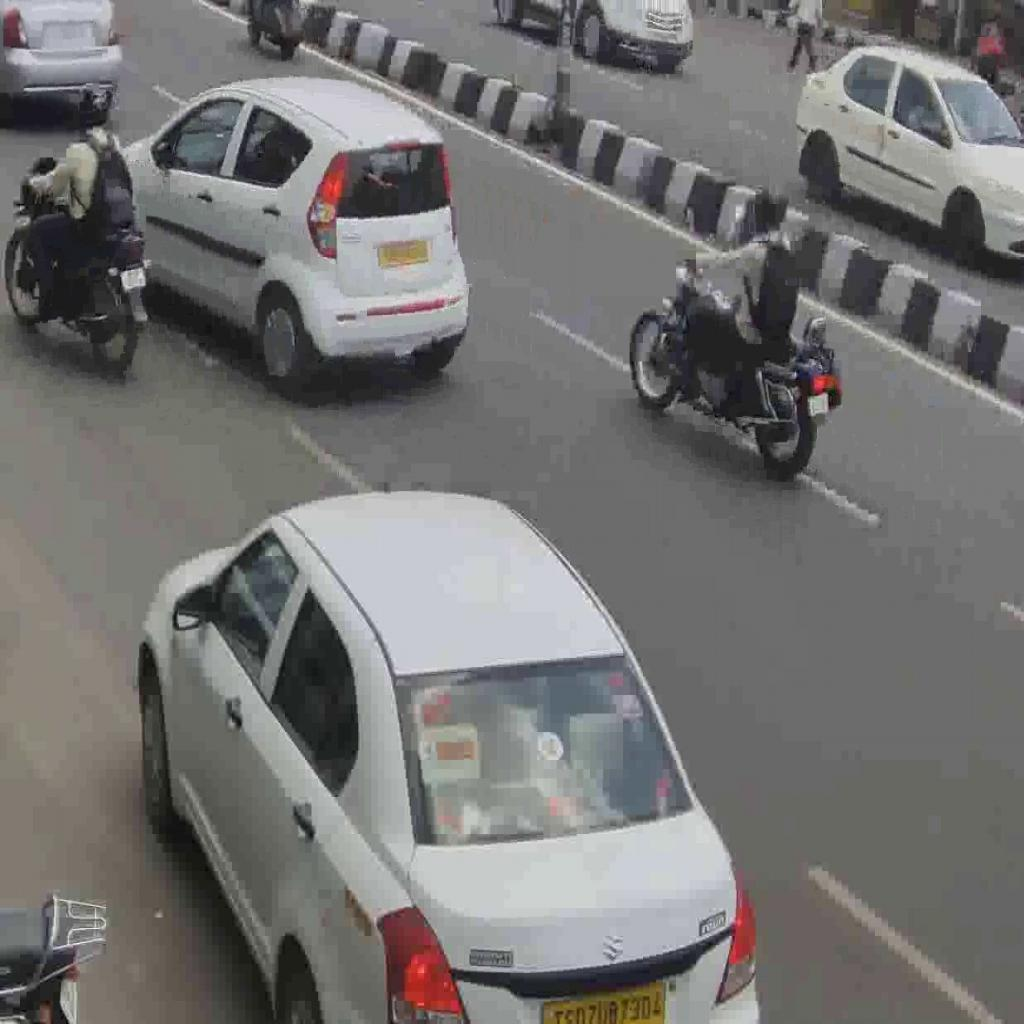helmet: (628, 255, 843, 479), (3, 155, 153, 376)
